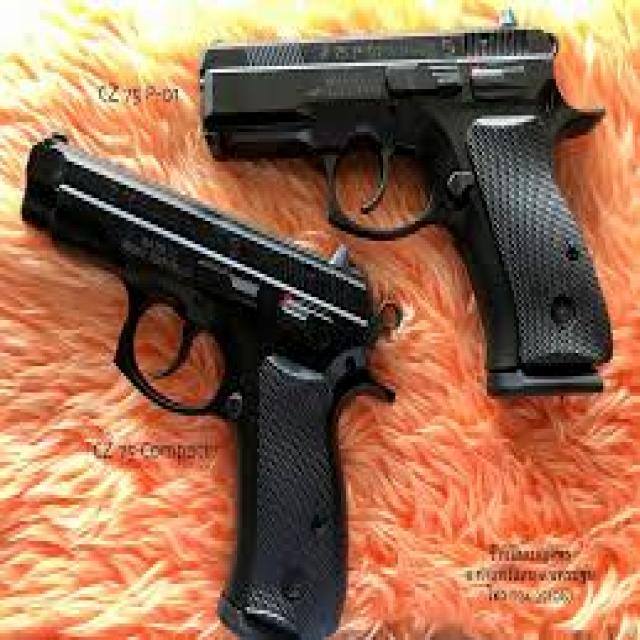semi automatic: (16, 3, 617, 640)
